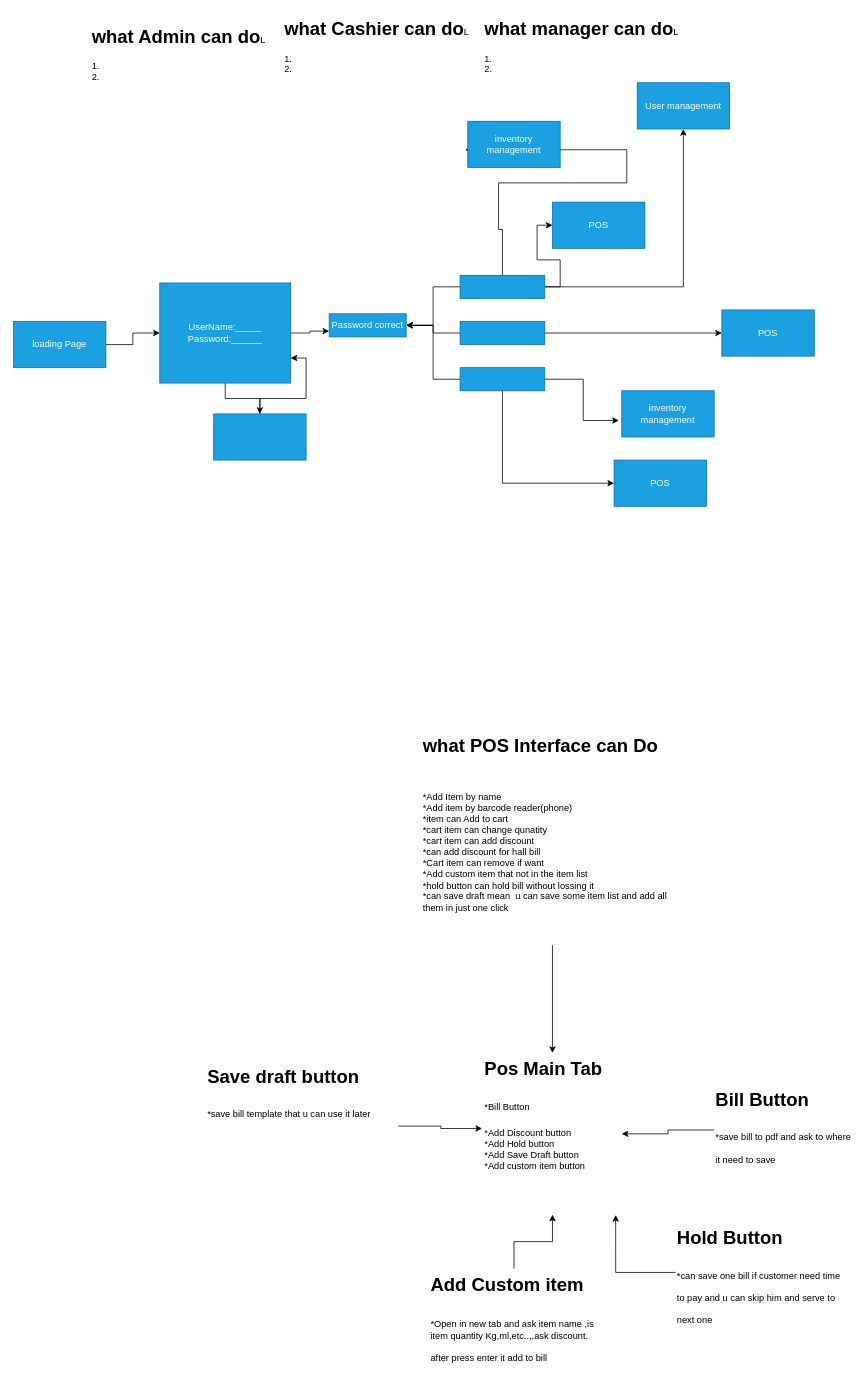
This 866x1376 diagram has some shape labels left out. The centre of each missing label's shape, as x and y in pixels:
Login as a Admin: the point at 502,286
Login as a cashier: the point at 502,333
Login as a manager: the point at 502,379
Password Wrong try again: the point at 259,436
